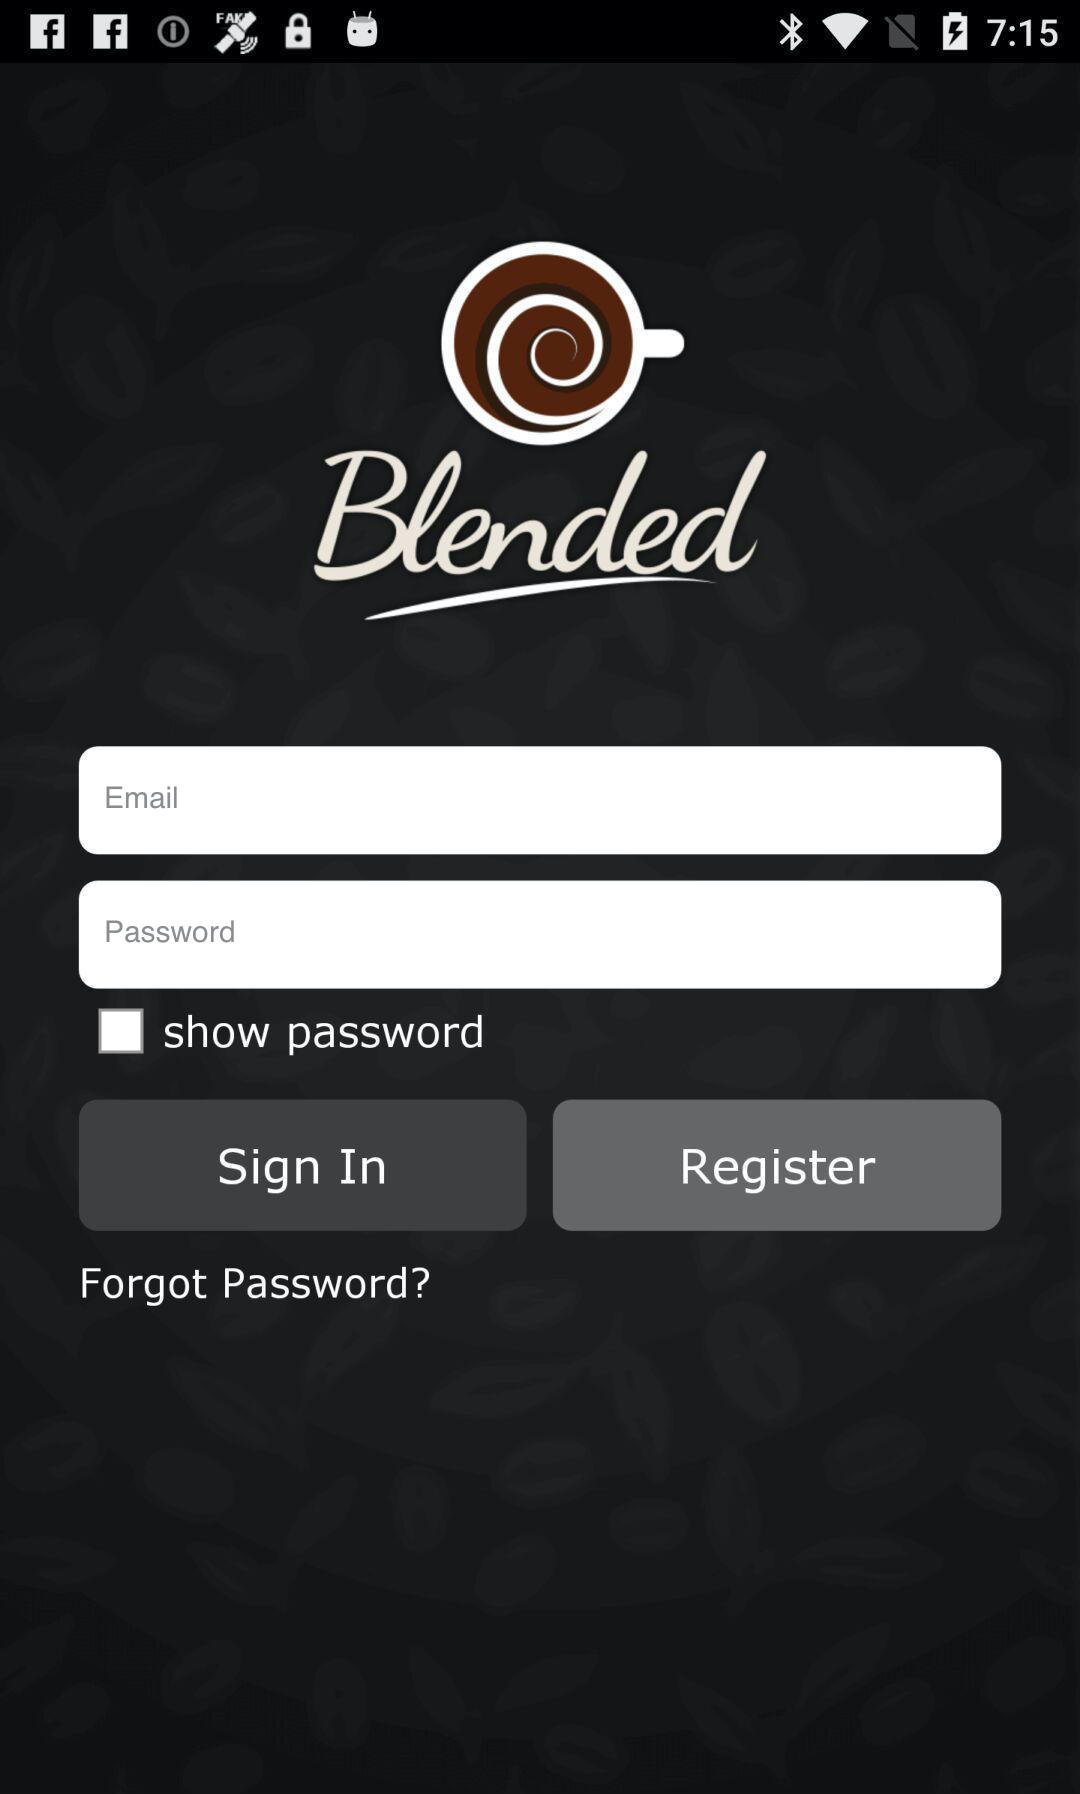CheckedTextView: (97, 1008, 483, 1057)
EditText: (79, 746, 1002, 856), (79, 880, 1002, 991)
Image: (313, 240, 770, 623)
Text: (164, 1012, 483, 1057), (82, 1266, 430, 1307), (106, 920, 234, 944), (106, 786, 179, 810)
TextButton: (552, 1099, 1002, 1231), (79, 1099, 528, 1231)
UpperTaskBar: (1, 1, 1080, 64)
